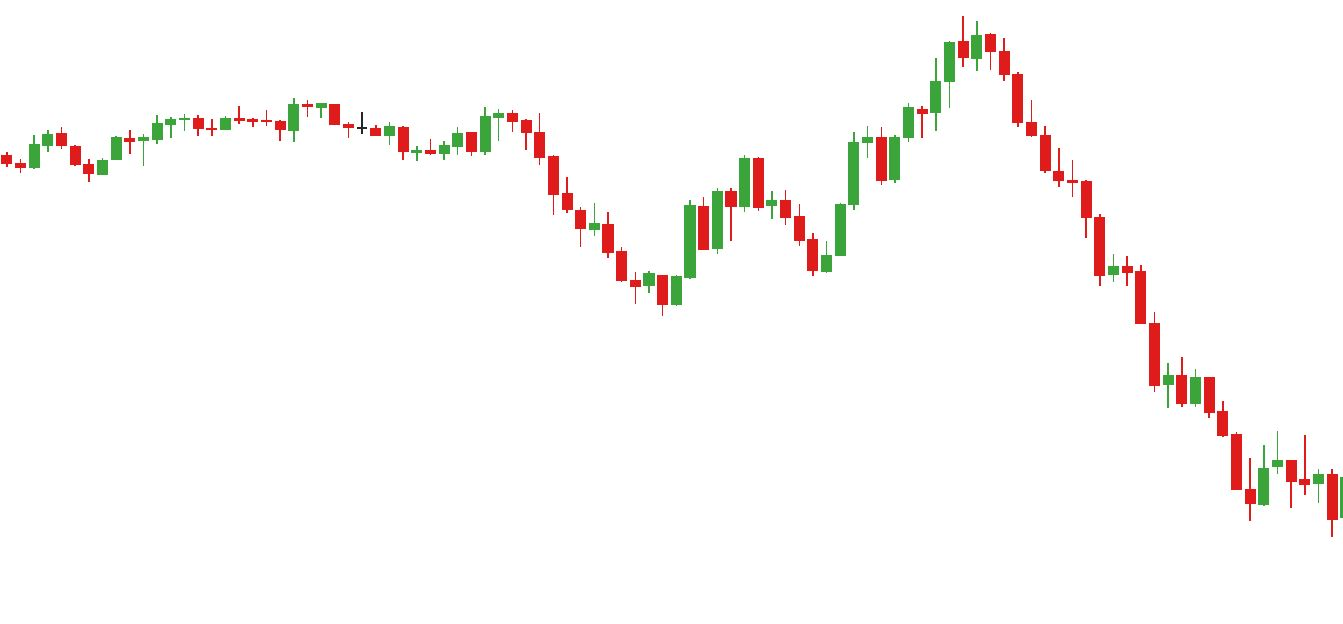buy: (694, 191, 849, 274)
